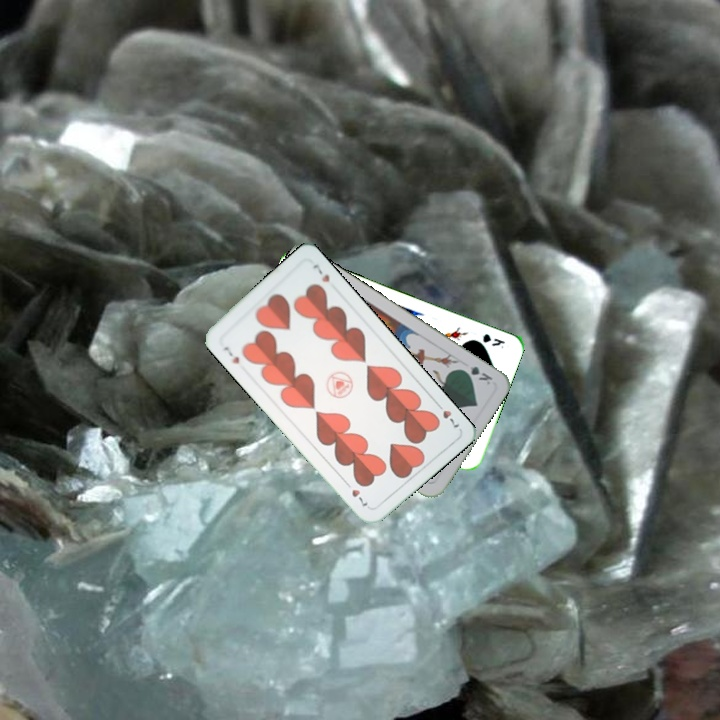GK: (457, 362, 495, 388), (478, 329, 507, 351)
H7: (431, 398, 462, 431), (219, 342, 242, 368)
